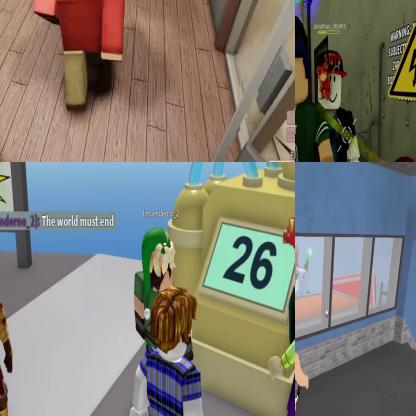Roblox-Avatar: (129, 287, 213, 416), (34, 1, 127, 112), (296, 13, 338, 162), (268, 201, 295, 416), (316, 50, 364, 162), (1, 231, 18, 416)
